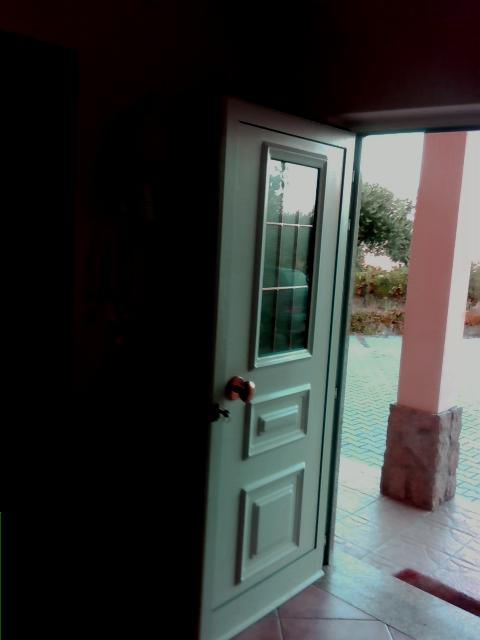open_door: (321, 103, 479, 616)
